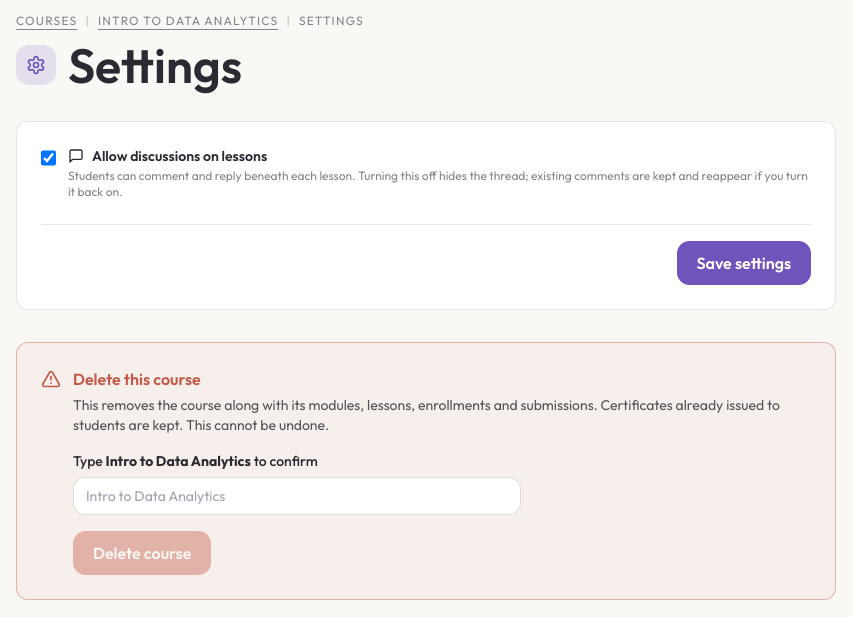
Test: CourseSettingsView — delete › stays disabled until the course title is typed exactly
expect the button "Delete course" is disabled: met, box [73,531,211,575]
Step 1. Type "Intro to Data" into the field named "confirm course title" → point(297, 496), box [73,477,521,515]
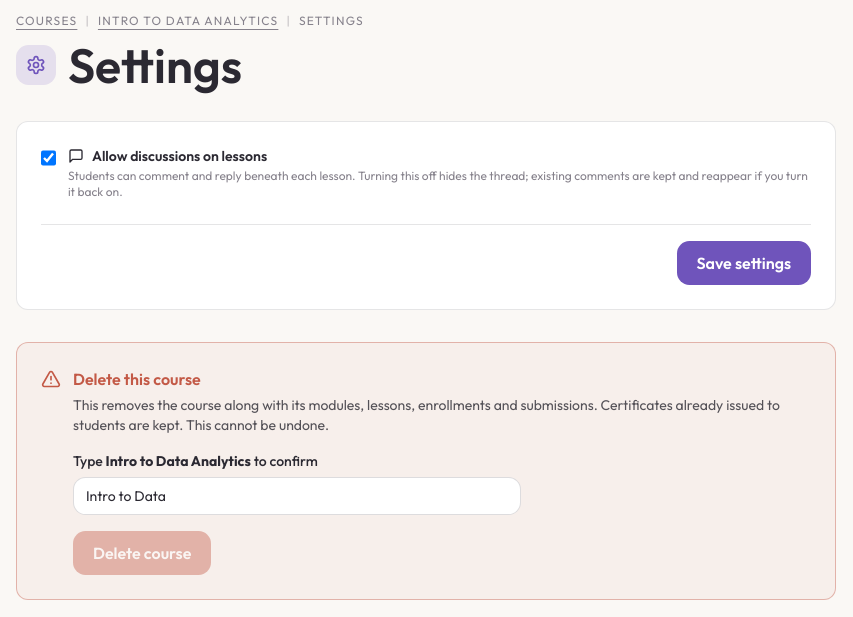
expect the button "Delete course" is disabled: met, box [73,531,211,575]
Step 2. Replace the text in the field named "confirm course title" with "Intro to Data Analytics" → point(297, 496), box [73,477,521,515]
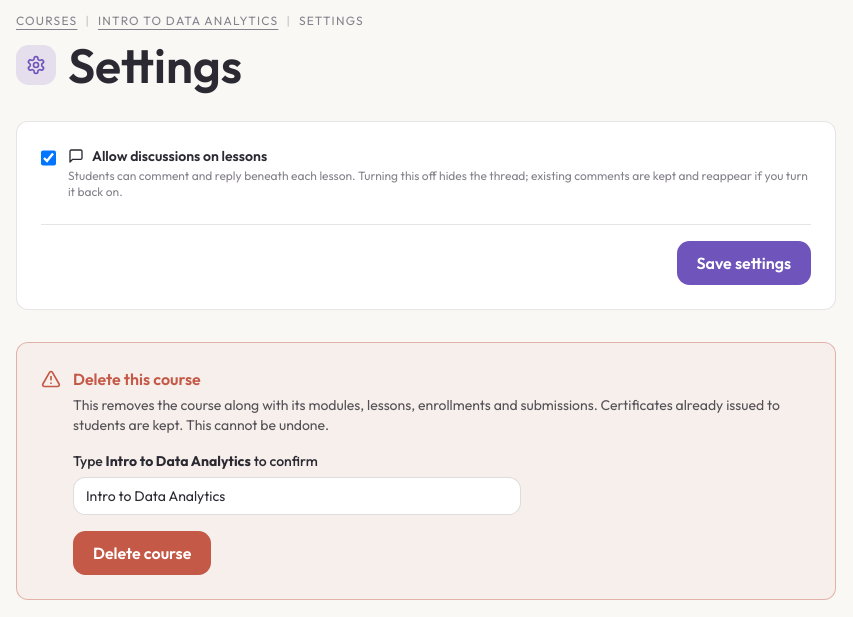
expect the button "Delete course" is enabled: met, box [73,531,211,575]
